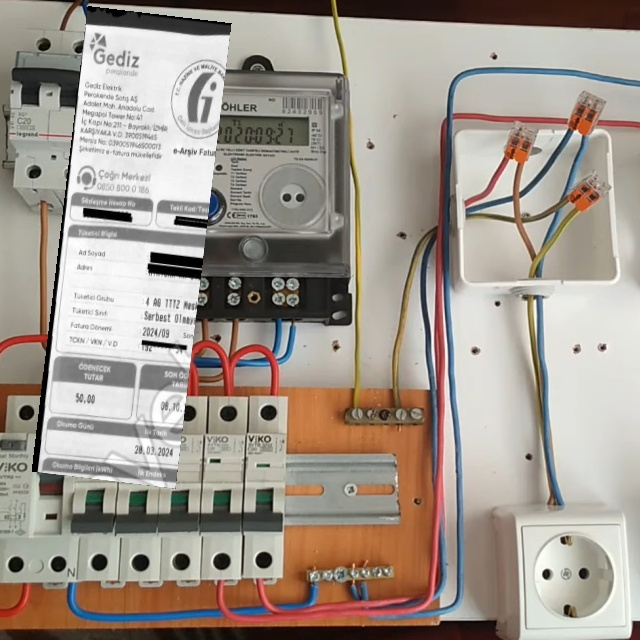electricity-bill: (32, 5, 232, 488)
